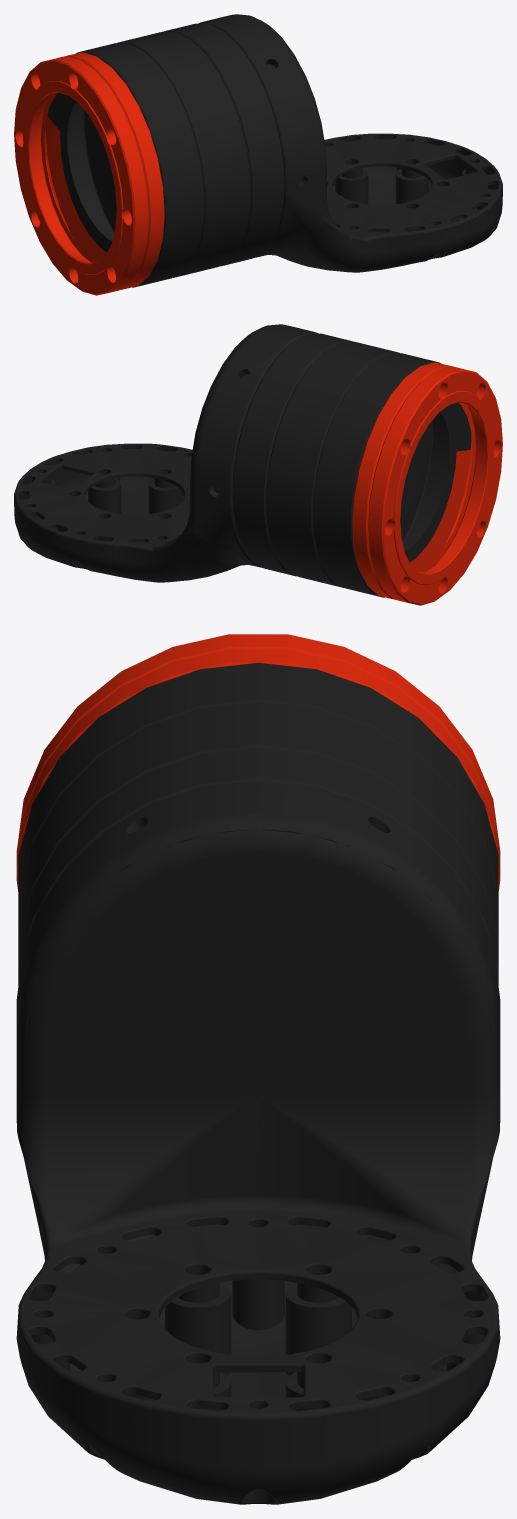
File: Robolink_RebeL_005.dae
3 renders of one model, top to bottom at view 1: azimuth 30°, elevation 25°; view 2: azimuth 150°, elevation 25°; view 3: azimuth 270°, elevation 25°, orthographic. The views are drawn at different scales.
Parts seen in each view (by area): view 1: Robolink_RebeL_005; view 2: Robolink_RebeL_005; view 3: Robolink_RebeL_005.
Boxes of the visible parts, x1,y1,x2,y2 form: Robolink_RebeL_005: (14,14,502,295); Robolink_RebeL_005: (14,324,502,605); Robolink_RebeL_005: (16,634,500,1504).
Size of the model in its own units: 0.1583 by 0.08 by 0.0895.
Materials: 1 (1 with a texture image).
